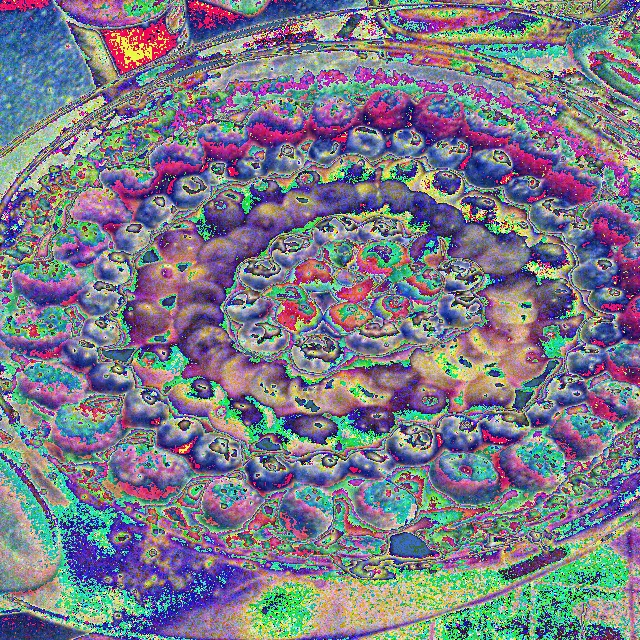background: (0, 88, 640, 580)
